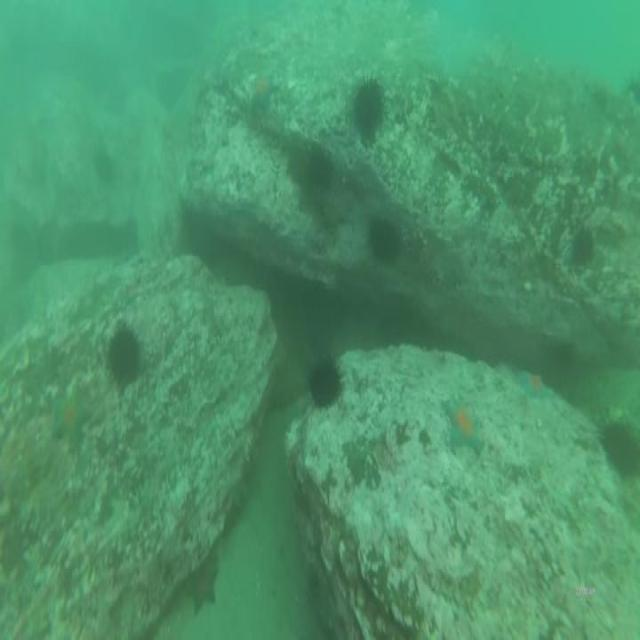echinus: (302, 342, 348, 418), (106, 319, 146, 397), (348, 69, 386, 147), (602, 408, 640, 483), (297, 142, 338, 199), (368, 209, 404, 267), (567, 220, 599, 273)
starfish: (440, 396, 487, 459), (51, 386, 92, 455), (184, 561, 220, 615), (516, 367, 556, 408), (249, 68, 279, 114)
